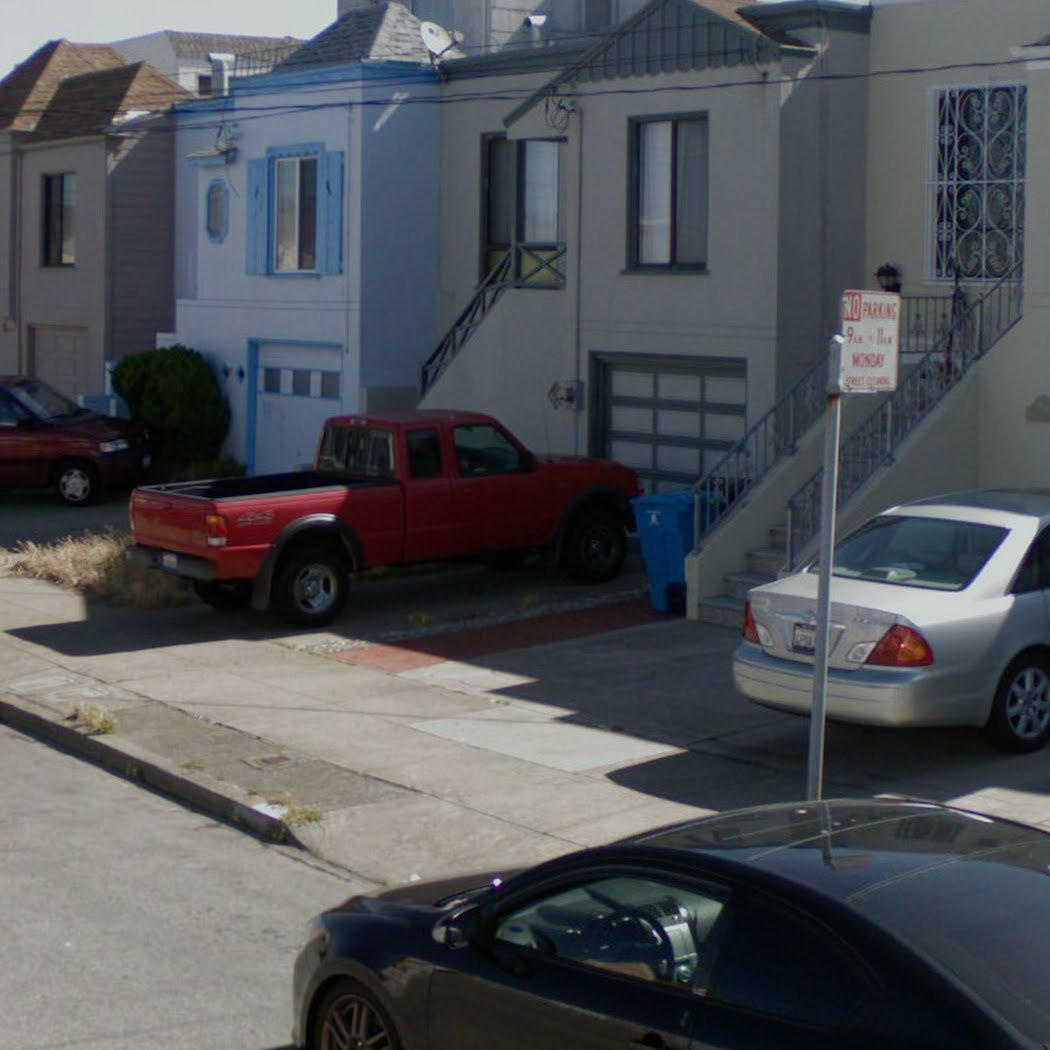No Parking: (835, 286, 903, 395)
